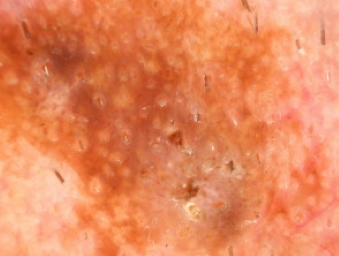seborrheic keratosis: (14, 12, 318, 241)
